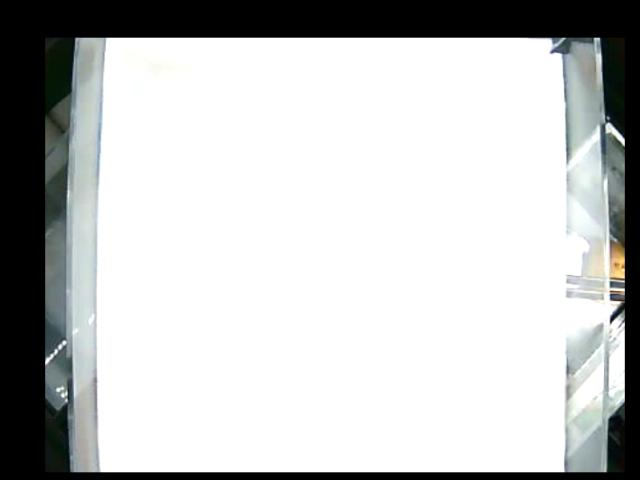Cup: (360, 211, 507, 363)
